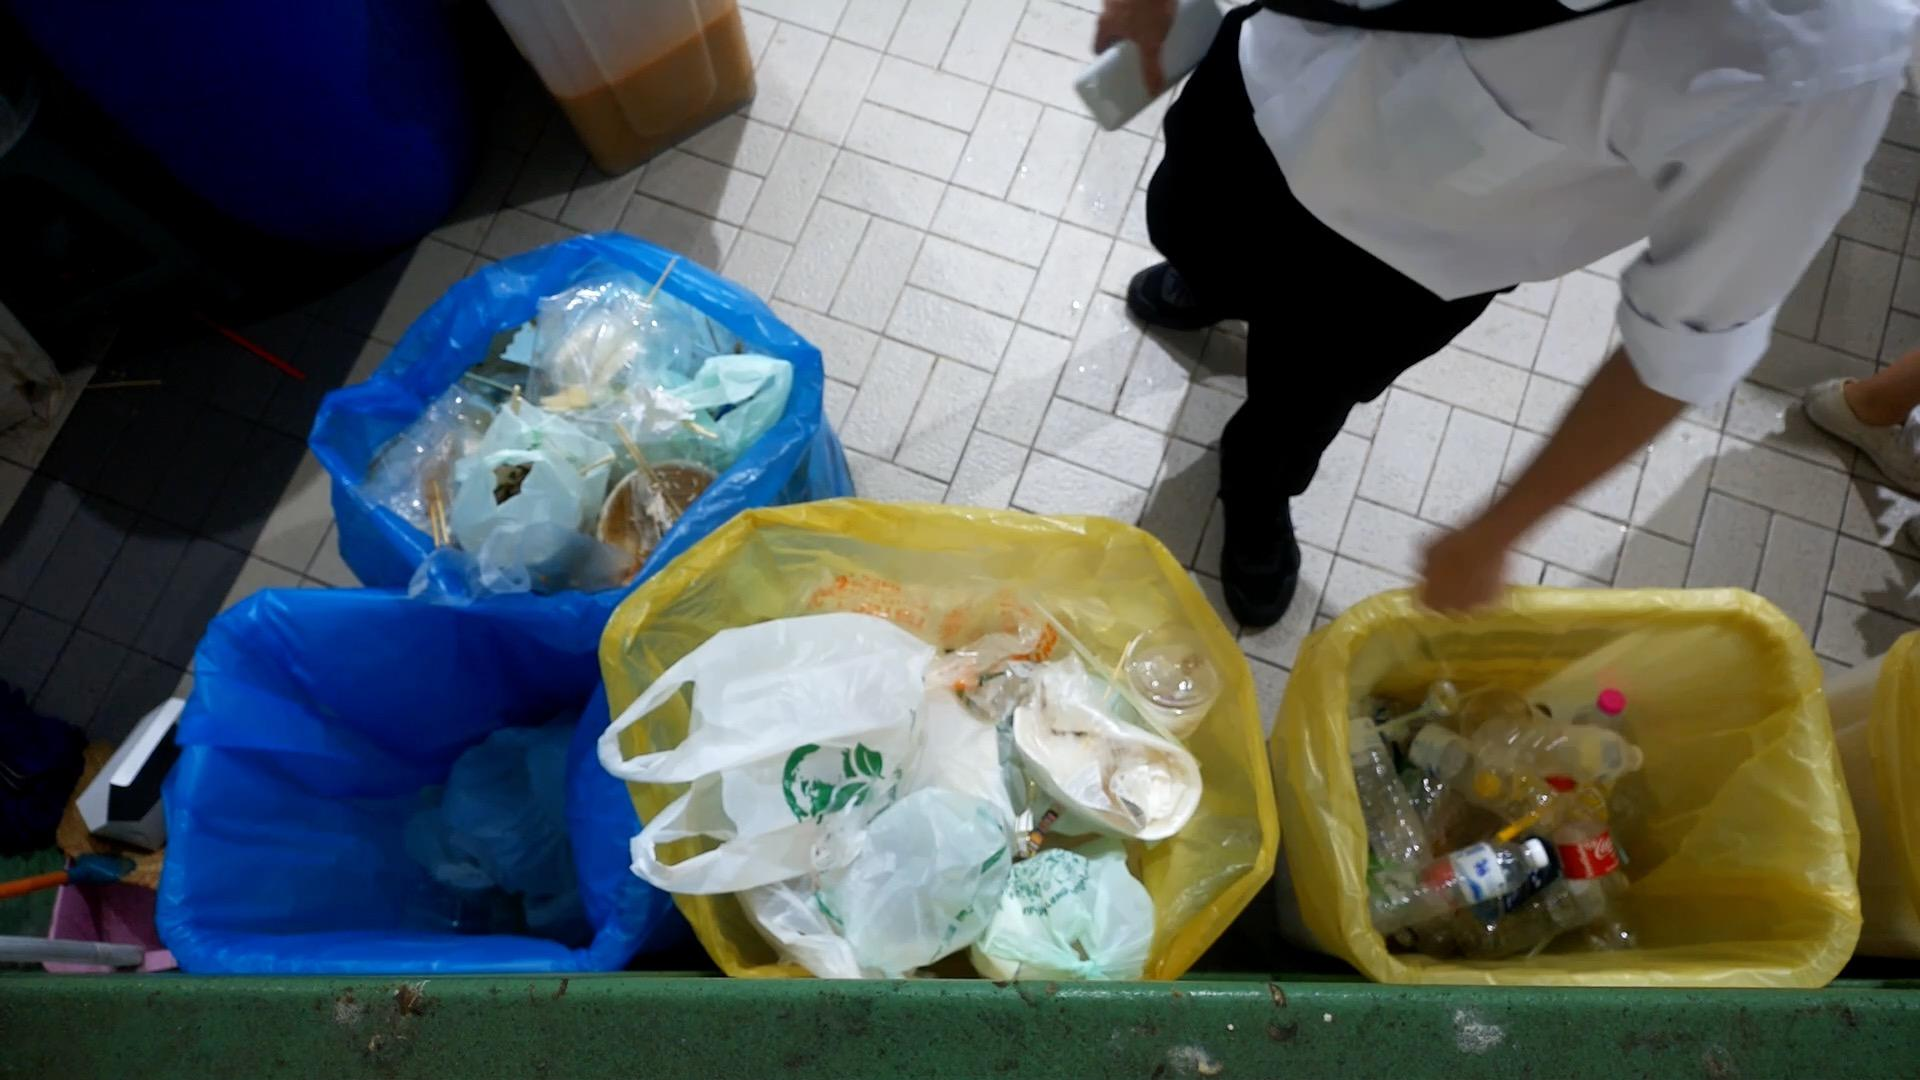dirty food container: (595, 456, 721, 585)
filled plastic bag: (597, 605, 939, 899), (819, 733, 1021, 986), (1002, 682, 1205, 857), (964, 832, 1159, 1006), (421, 691, 585, 893), (450, 385, 607, 583)
plastic bag: (526, 274, 679, 431), (654, 342, 786, 462), (360, 396, 484, 514)
plastic bottle: (1360, 831, 1552, 945), (1385, 716, 1564, 816), (1552, 767, 1644, 949), (1350, 704, 1440, 870), (1466, 717, 1650, 777)
plastic cup: (1122, 625, 1222, 731)
sticks: (612, 410, 692, 516), (414, 463, 458, 535), (640, 248, 687, 310)
